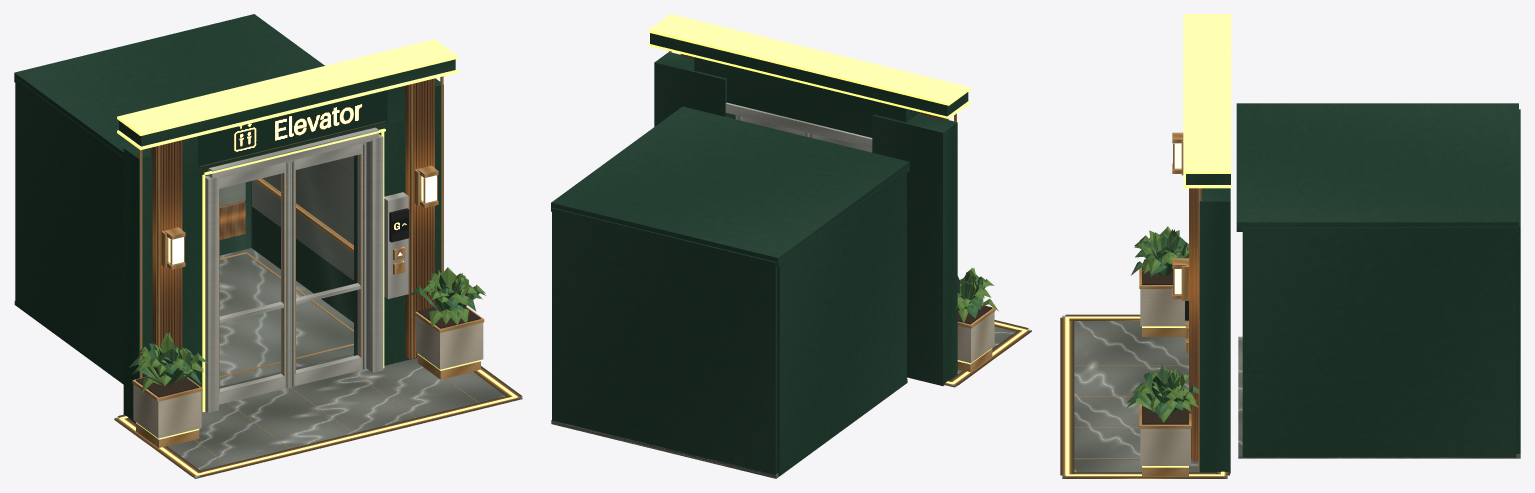
The model's file is detailed.glb.
The picture shows the model from 3 angles, left to right: view 1: azimuth 30°, elevation 25°; view 2: azimuth 150°, elevation 25°; view 3: azimuth 270°, elevation 25°; orthographic projection. The views are drawn at different scales.
Parts seen in each view (by area): view 1: Cabin, Portal, MarbleInlay, GoldTrim, Planters, Pilasters, ElevatorSign, DoorRight, DoorLeft, Sconces; view 2: Cabin, Portal, GoldTrim, Planters, MarbleInlay; view 3: Cabin, MarbleInlay, Planters, Portal, GoldTrim, Pilasters, Sconces.
Boxes of the visible parts, x1,y1,x2,y2 form: Cabin: (14, 14, 353, 388); Portal: (119, 59, 455, 423); MarbleInlay: (114, 357, 522, 478); GoldTrim: (117, 39, 458, 412); Planters: (129, 267, 485, 447); Pilasters: (151, 78, 434, 358); ElevatorSign: (198, 90, 387, 168); DoorRight: (290, 142, 366, 387); DoorLeft: (219, 161, 289, 404); Sconces: (161, 165, 438, 269); Cabin: (551, 106, 909, 478); Portal: (650, 33, 968, 385); GoldTrim: (648, 14, 971, 122); Planters: (956, 267, 998, 372); MarbleInlay: (943, 320, 1031, 387); Cabin: (1236, 103, 1520, 458); MarbleInlay: (1060, 314, 1229, 478); Planters: (1127, 226, 1198, 476); Portal: (1185, 174, 1230, 473); GoldTrim: (1183, 14, 1231, 471); Pilasters: (1189, 188, 1201, 461); Sconces: (1172, 132, 1188, 300).
Bounding box in the file's own units: 4.6 × 3.81 × 5.19.
2 materials, 2 textured.
